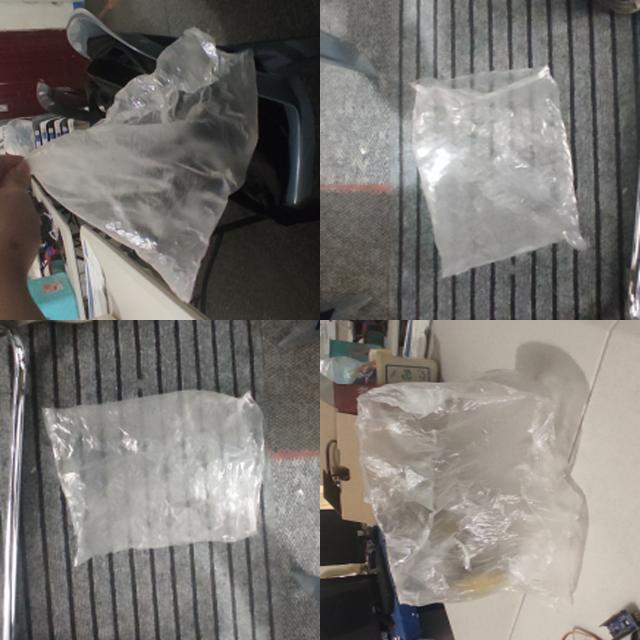Single-layer Plastic: (28, 28, 258, 302), (358, 371, 588, 605), (45, 390, 265, 564), (412, 66, 585, 276)
